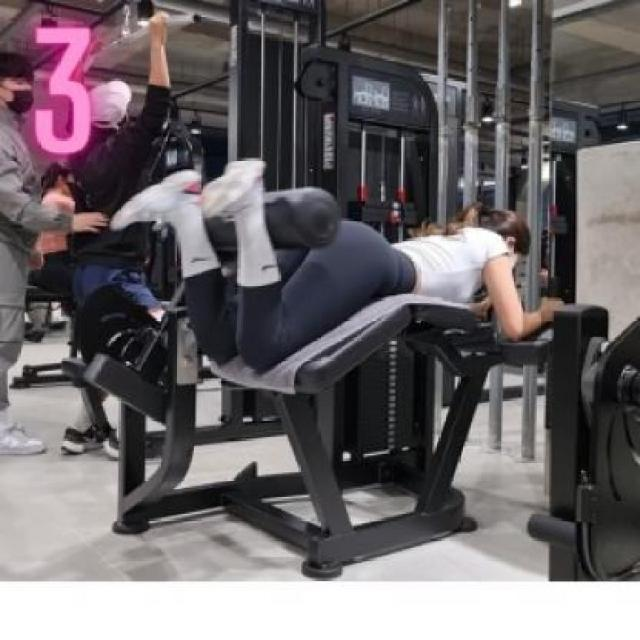reg curl machine: (65, 42, 588, 580)
